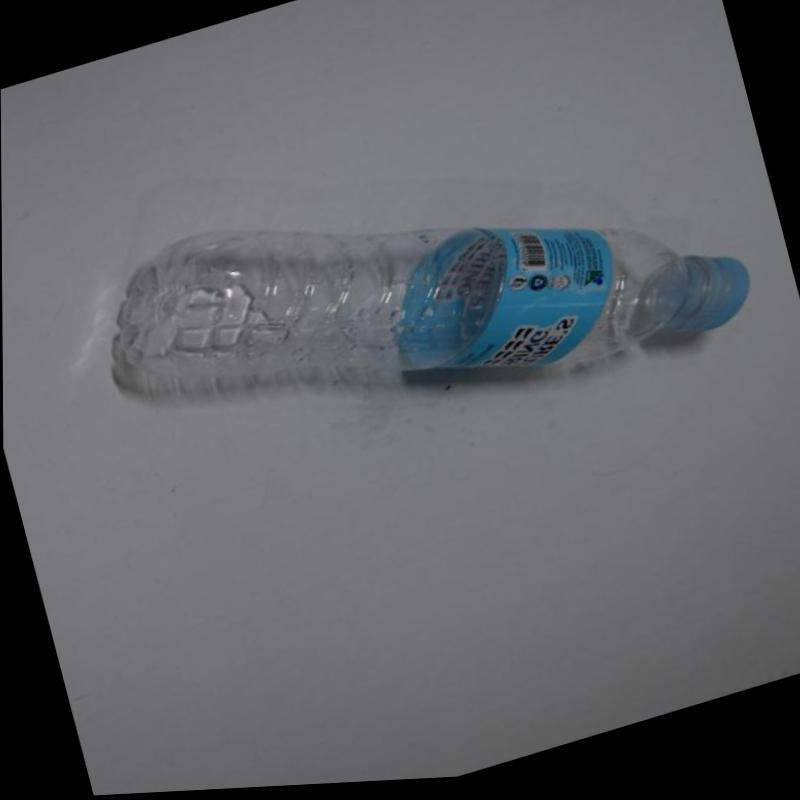botella: (82, 86, 765, 506)
